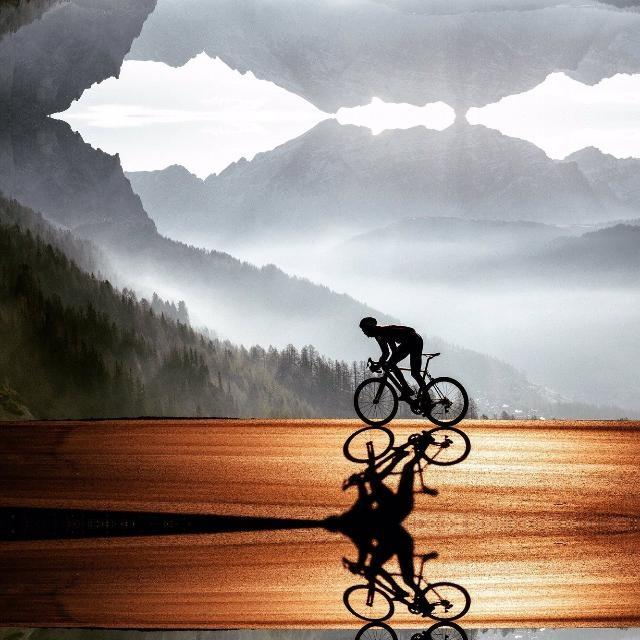obstacle: (341, 348, 505, 444), (341, 603, 505, 640)
